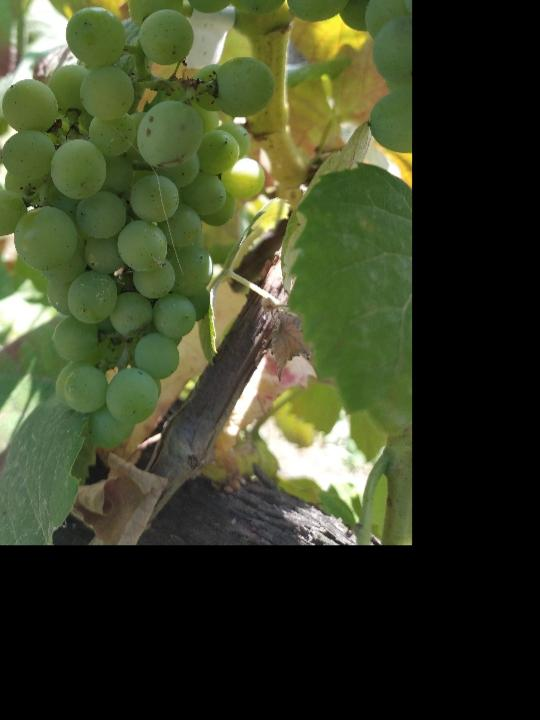grape: (0, 0, 274, 452)
